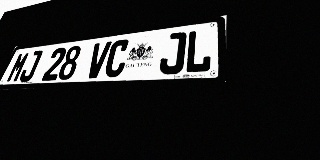2: (41, 47, 68, 81)
8: (56, 45, 83, 80)
C: (103, 39, 131, 78)
J: (158, 31, 187, 75), (18, 50, 44, 82)
L: (184, 28, 213, 74)
M: (5, 52, 31, 83)
V: (84, 41, 112, 79)
